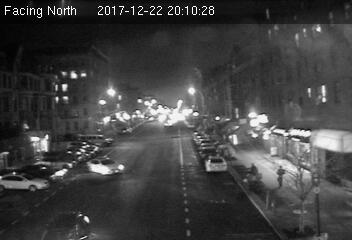car: (87, 154, 123, 177), (203, 155, 227, 174)
pedestrian: (275, 165, 286, 190)
